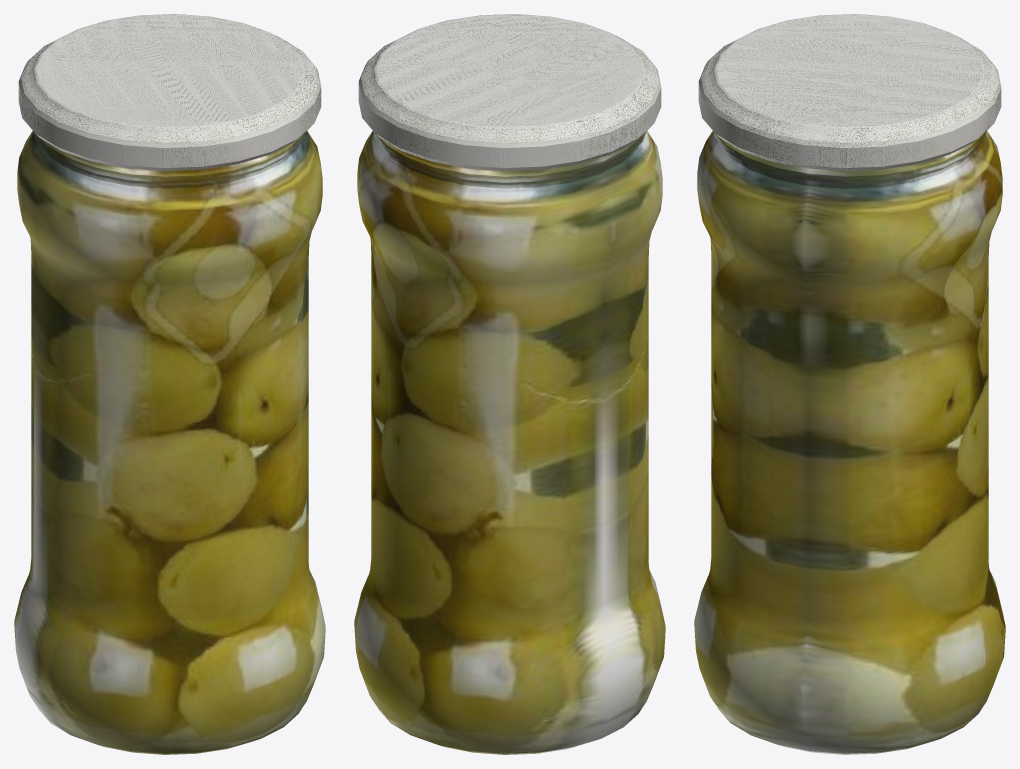
Rendered from olives.dae.
3 renders of one model, left to right at view 1: azimuth 30°, elevation 25°; view 2: azimuth 150°, elevation 25°; view 3: azimuth 270°, elevation 25°, orthographic.
Parts seen in each view (by area): view 1: group_1, group_2; view 2: group_1, group_2; view 3: group_1, group_2.
Part boxes in pixels (box(x1,y1,x2,y2)): group_1: box(14, 131, 325, 754); group_2: box(18, 14, 321, 170); group_1: box(354, 131, 665, 754); group_2: box(358, 14, 661, 170); group_1: box(694, 131, 1005, 754); group_2: box(698, 14, 1001, 170).
Bounding box in the file's own units: 2.11 × 2.11 × 4.76.
2 materials, 1 textured.
